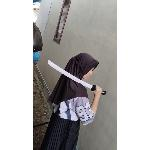Pedang: (46, 54, 108, 96)
